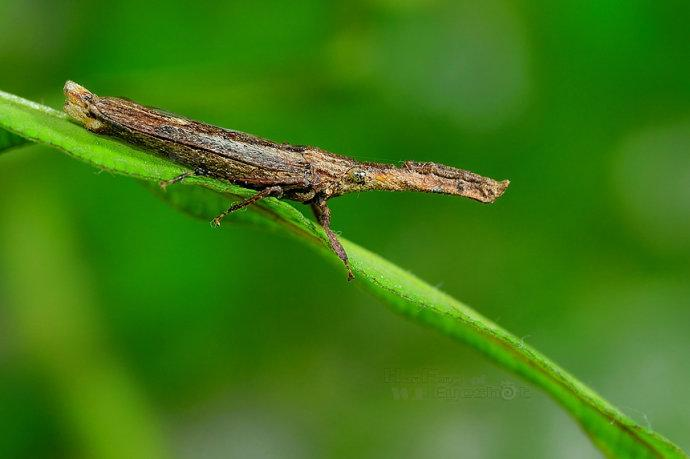Cicadellidae: (60, 79, 510, 282)
